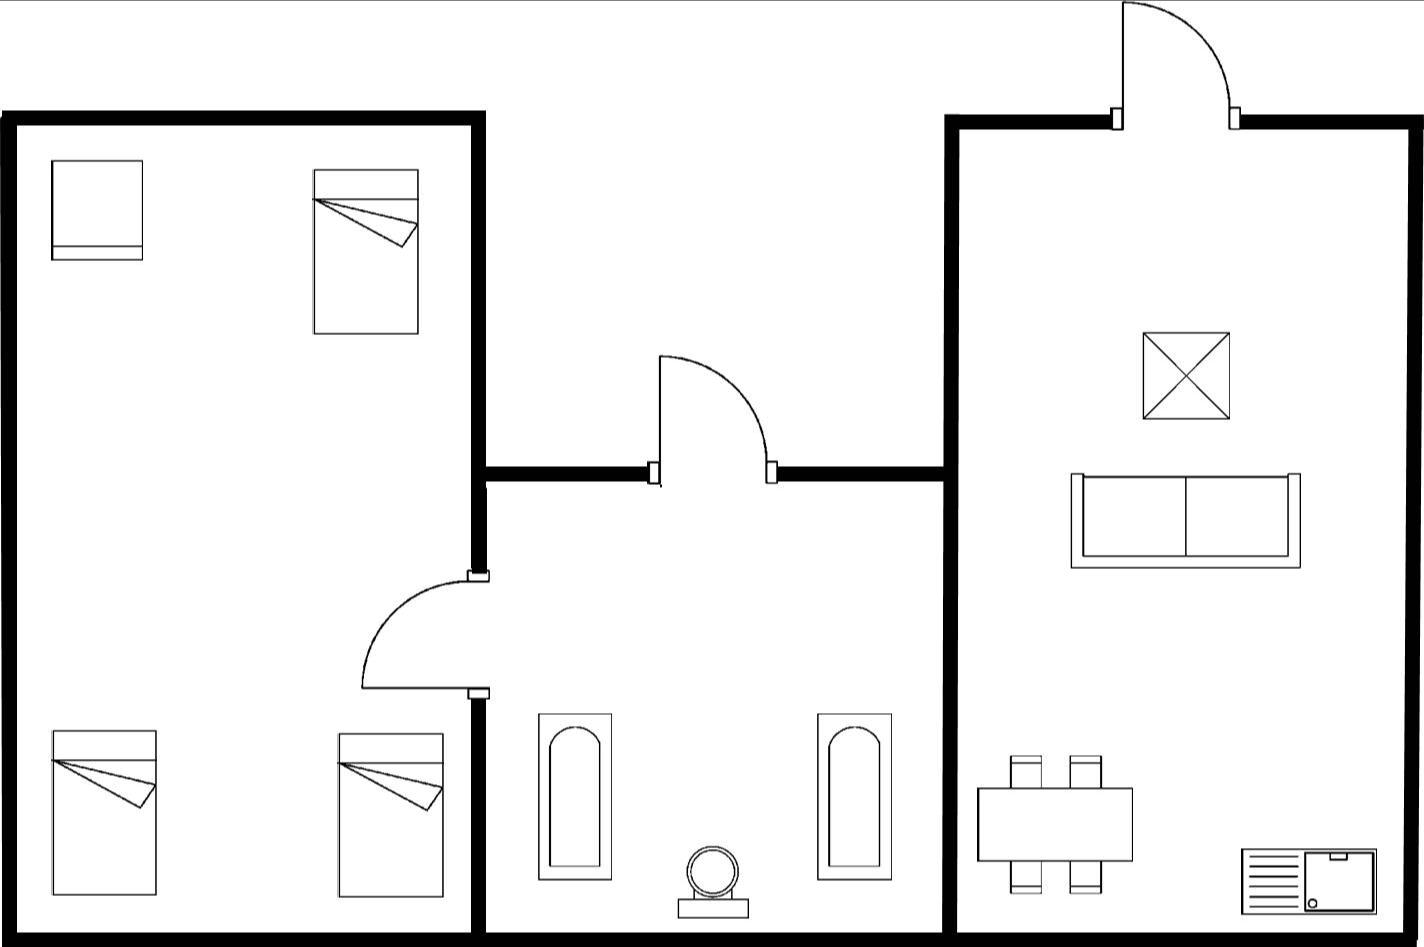bed: (43, 723, 166, 902), (305, 160, 424, 343), (331, 726, 448, 903)
dining_table: (971, 747, 1138, 897)
sink: (1233, 840, 1382, 920)
sofa: (1064, 465, 1305, 573)
toilet: (673, 839, 754, 924)
tub: (529, 705, 616, 886), (810, 706, 896, 886)
